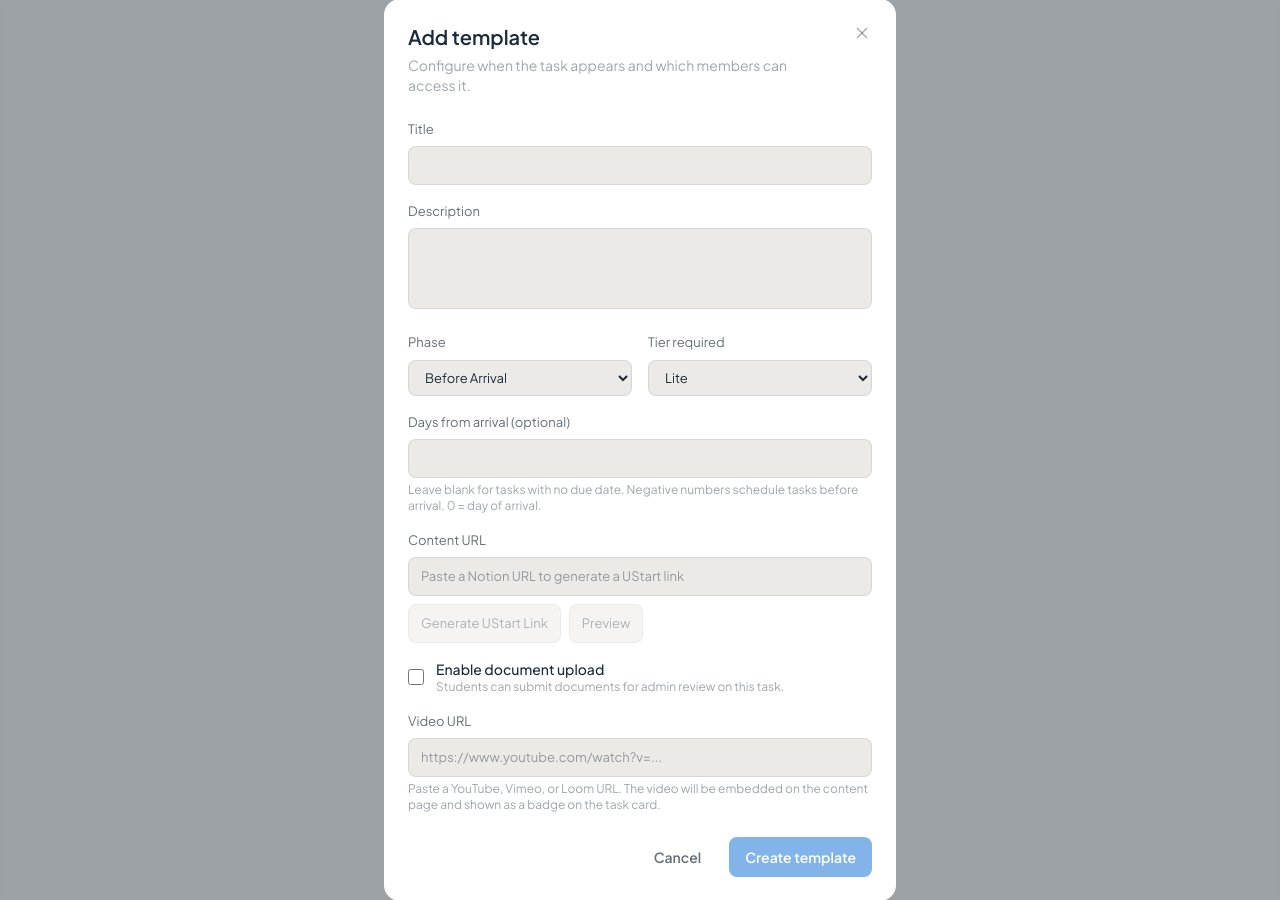
PlanTemplateModal › shows a disappearing 'Final URL' caption after successful Notion URL verification
In the field named "content url": (640, 576) [408,557,872,596], type "https://notion.so/Banking-Basics-abc123"
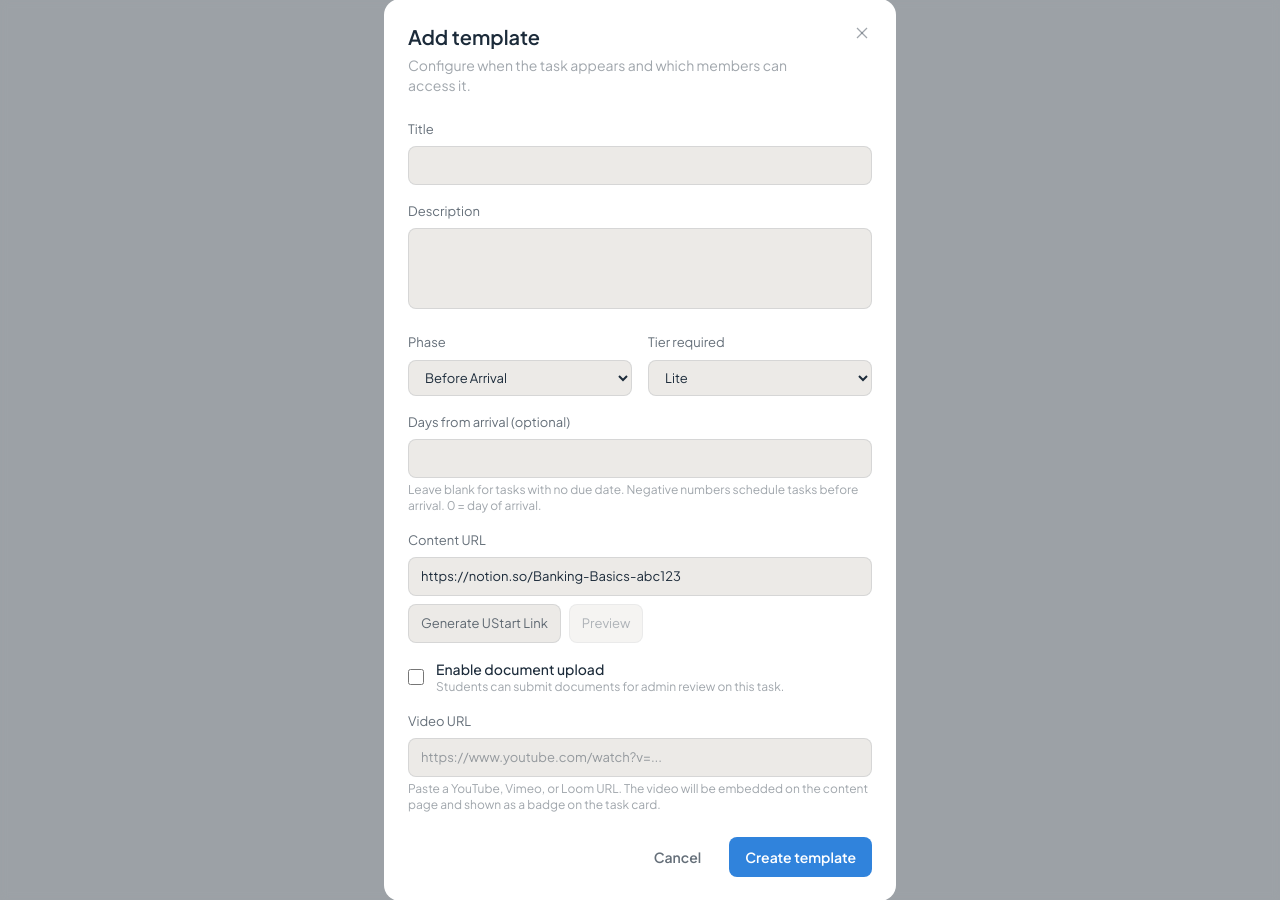
Click the button "Generate UStart Link": (484, 624) [408,604,561,643]
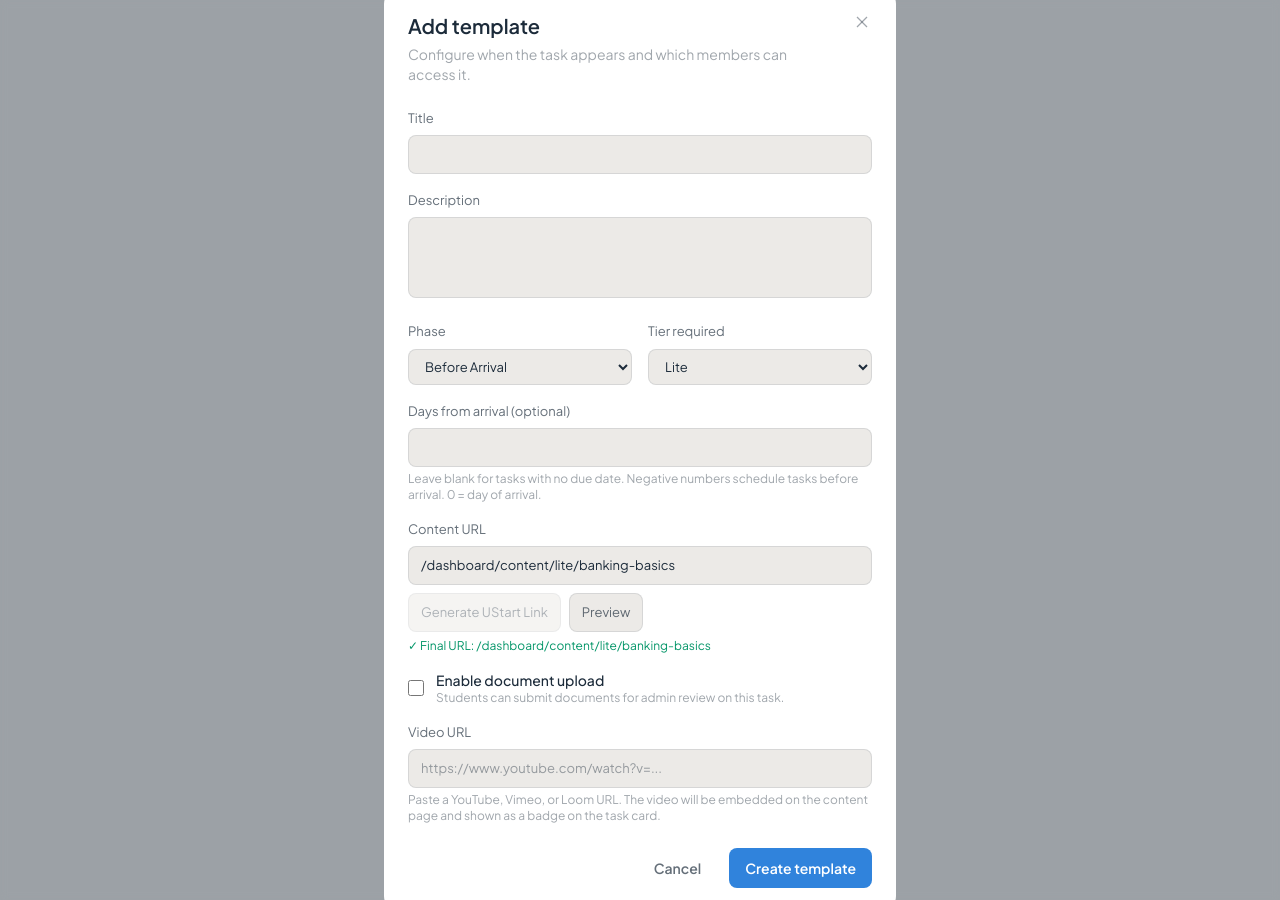
Now the text "✓ Final URL: /dashboard/content/lite/banking-basics" is shown, box [408,638,711,653]
Now the field showing "/dashboard/content/lite/banking-basics" is shown, box [408,546,872,585]
